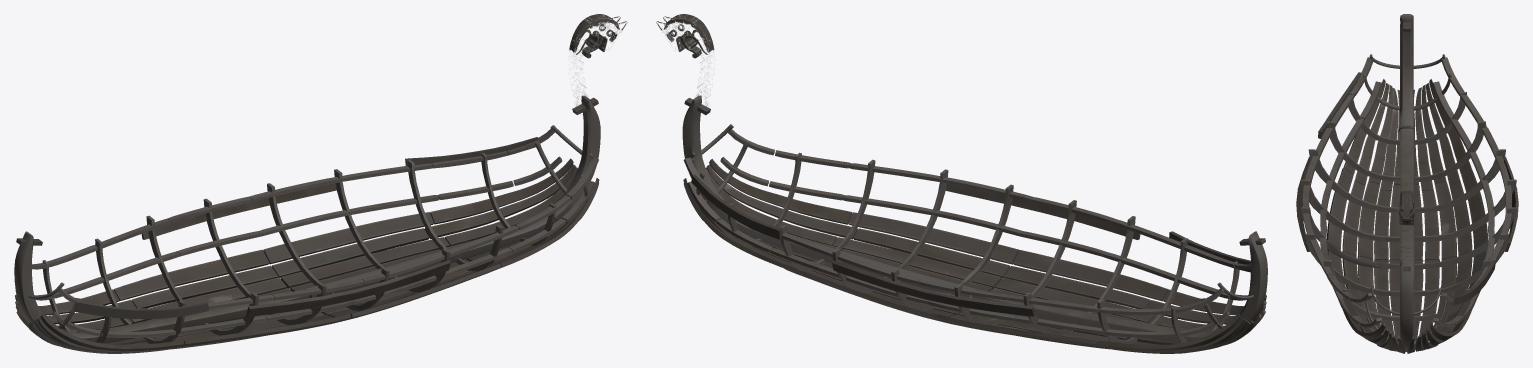
The model's file is build_boat_01_low.glb.
3 views of the same model, side by side, from view 1: azimuth 30°, elevation 25°; view 2: azimuth 150°, elevation 25°; view 3: azimuth 270°, elevation 25° (orthographic). The views are drawn at different scales.
Parts seen in each view (by area): view 1: build_boat_01, build_boat_dragonhead_01_LOD0; view 2: build_boat_01, build_boat_dragonhead_01_LOD0; view 3: build_boat_01, build_boat_dragonhead_01_LOD0.
Part boxes in pixels (left/top/right/bottom): build_boat_01: left=14, top=95, right=600, bottom=353; build_boat_dragonhead_01_LOD0: left=569, top=14, right=627, bottom=113; build_boat_01: left=682, top=95, right=1267, bottom=353; build_boat_dragonhead_01_LOD0: left=656, top=14, right=714, bottom=113; build_boat_01: left=1296, top=14, right=1518, bottom=353; build_boat_dragonhead_01_LOD0: left=1399, top=191, right=1414, bottom=259.
Size of what is drawn, in the model's own units: 9.49 by 3.27 by 3.34.
2 materials, 2 textured.
